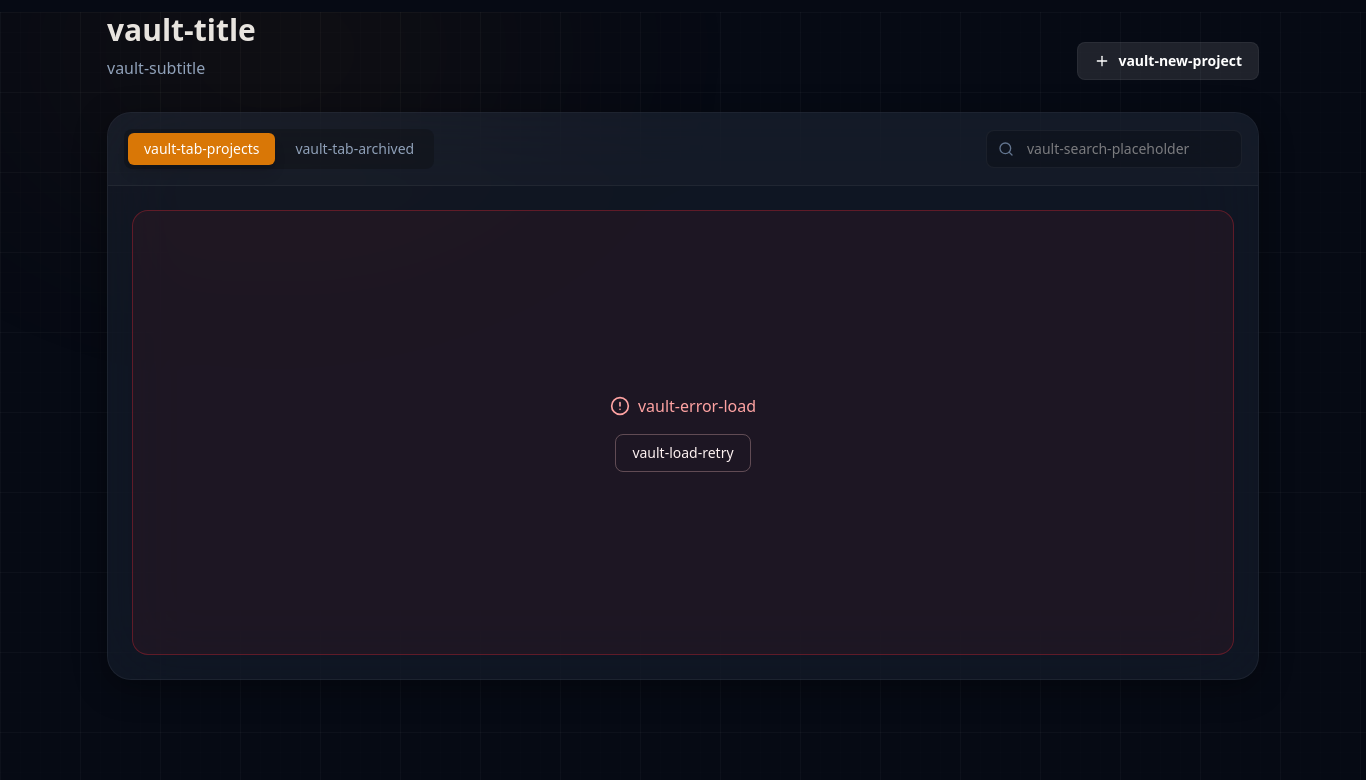
Test: vault aggregate load retry › retries a failed aggregate vault load and restores the projects empty state after recovery
The width and height of the screenshot is (1366, 780).
Click the button "vault-load-retry".
click(683, 452)  # box [615,434,751,472]
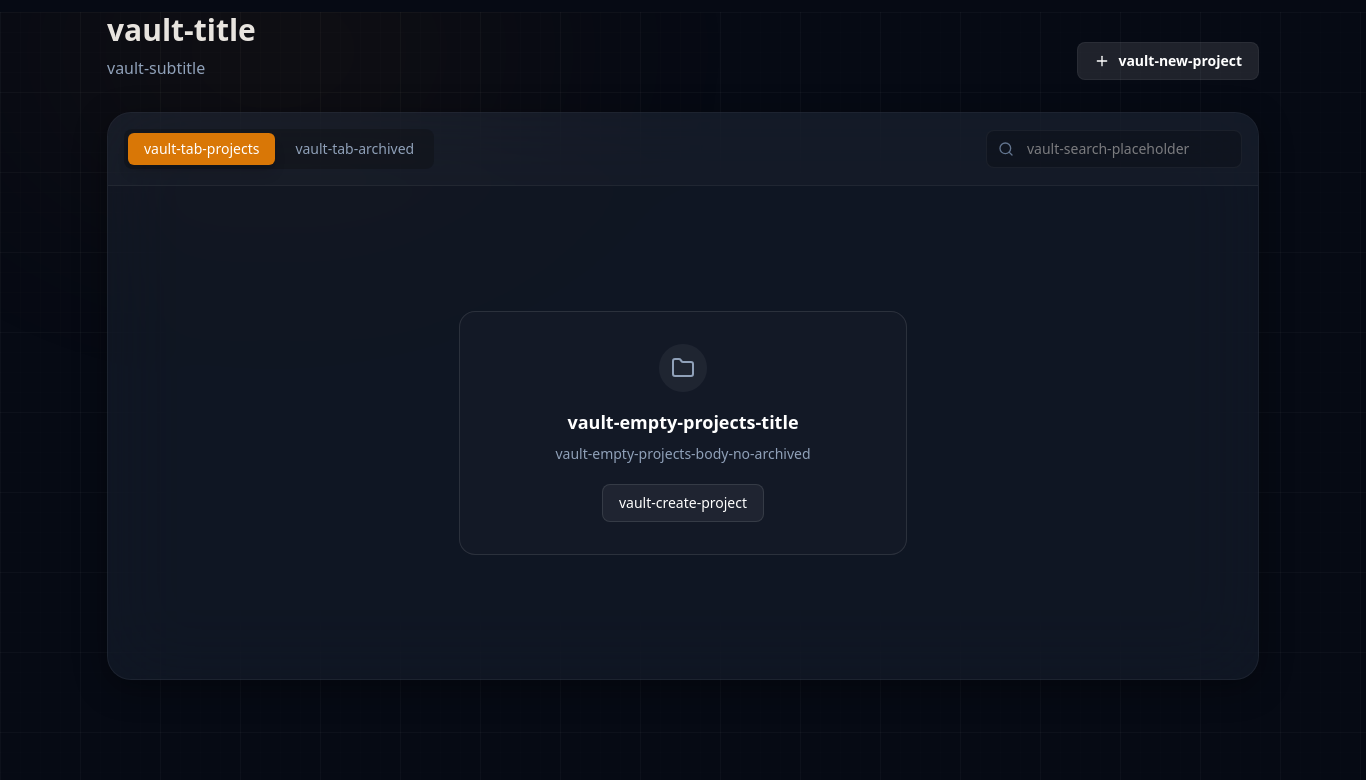
Check: the text "vault-loading" is shown, box [459,310,907,554]
Check: the heading "vault-empty-projects-title" is shown, box [567,410,798,434]
Check: the text "vault-empty-projects-body-no-archived" is shown, box [556,444,811,462]
